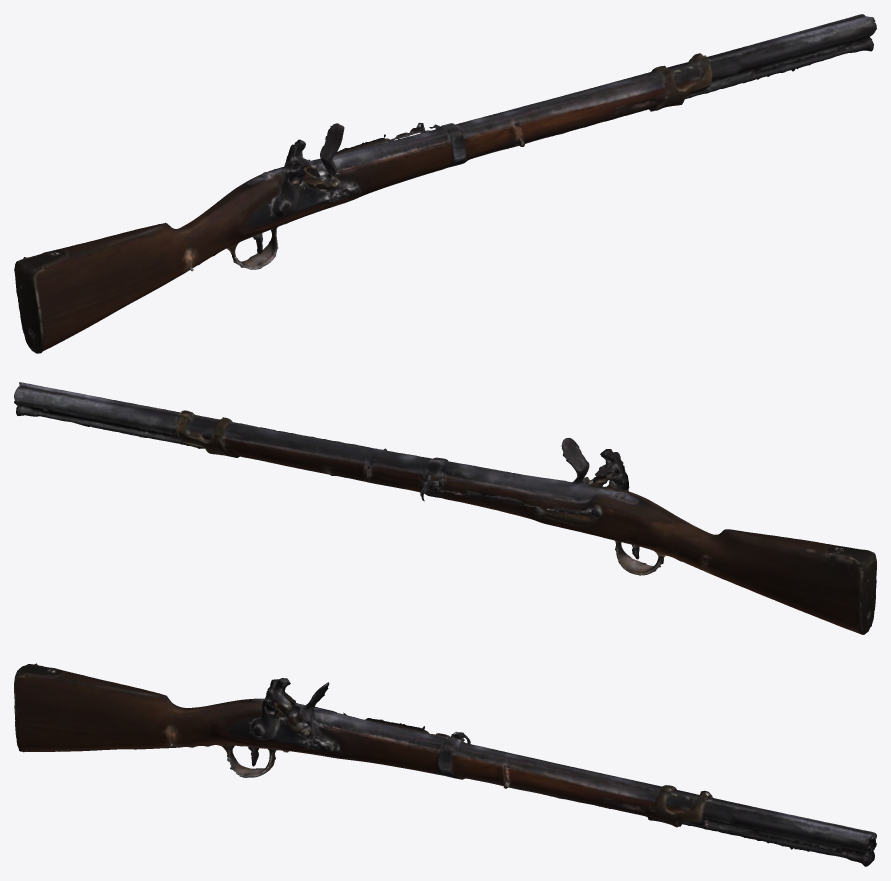
File: 18th_century_musket_replica.lod1.glb
3 renders of one model, top to bottom at view 1: azimuth 30°, elevation 25°; view 2: azimuth 150°, elevation 25°; view 3: azimuth 330°, elevation 25°, orthographic. The views are drawn at different scales.
Parts seen in each view (by area): view 1: Object_2; view 2: Object_2; view 3: Object_2.
Boxes of the visible parts, <box> form: Object_2: <box>14,14,876,353</box>; Object_2: <box>14,382,876,634</box>; Object_2: <box>14,663,876,866</box>.
Bounding box in the file's own units: 1147 × 175 × 136.
1 material, 1 textured.
